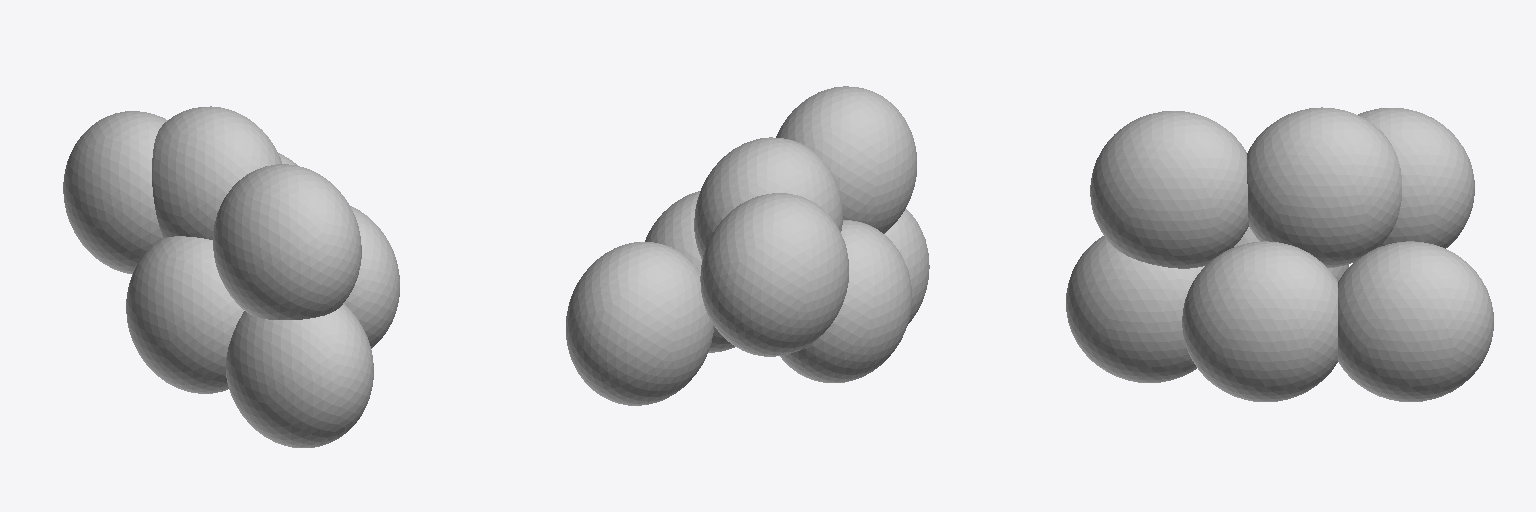
The model's file is PointsSly.obj.
The picture shows the model from 3 angles: view 1: azimuth 30°, elevation 25°; view 2: azimuth 150°, elevation 25°; view 3: azimuth 270°, elevation 25°; orthographic projection.
Visible parts, largest first — view 1: PointsSly; view 2: PointsSly; view 3: PointsSly.
Boxes of the visible parts, <box> form: PointsSly: <box>63,106,399,447</box>; PointsSly: <box>566,86,929,405</box>; PointsSly: <box>1066,107,1493,401</box>.
Size of the model in its own units: 0.3901 by 0.3963 by 0.5824.